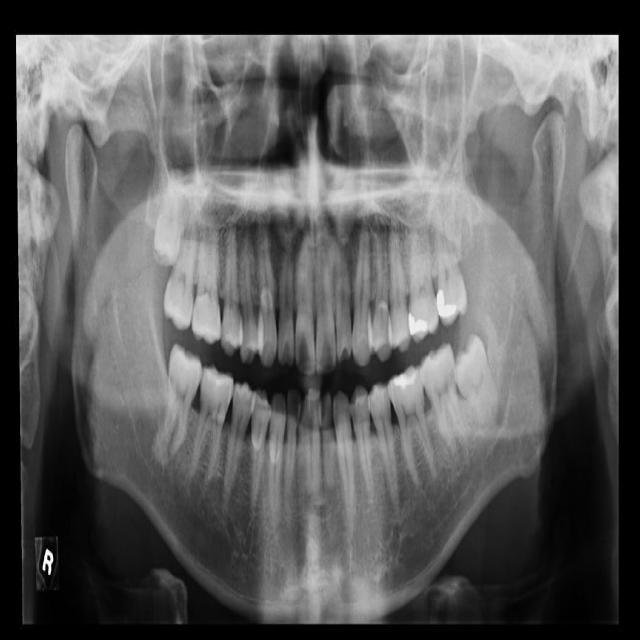3M ESPE Implant: (150, 156, 190, 269)
52: (197, 363, 236, 424), (403, 287, 444, 344), (432, 273, 472, 328), (388, 365, 425, 417), (257, 287, 278, 368), (366, 300, 393, 362), (268, 393, 288, 465), (251, 389, 272, 451)
73: (595, 586, 601, 594)
BioHorizons Implant: (431, 174, 468, 328)
Biomet 3i Implant: (442, 331, 508, 432)
Blue Sky Bio Implant: (415, 341, 471, 459)
Caries: (160, 195, 205, 333)
Implant: (158, 344, 205, 456)
